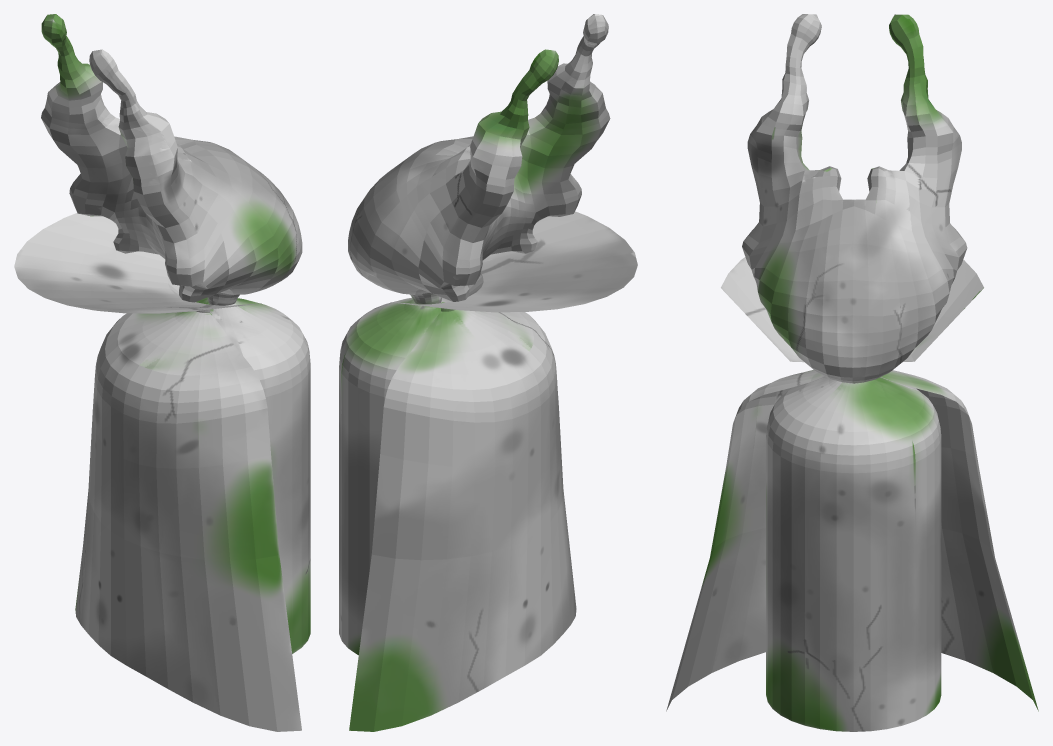
Rendered from Statue 1.fbx.
3 renders of one model, left to right at view 1: azimuth 30°, elevation 25°; view 2: azimuth 150°, elevation 25°; view 3: azimuth 270°, elevation 25°, orthographic. The views are drawn at different scales.
Parts seen in each view (by area): view 1: Low.001; view 2: Low.001; view 3: Low.001.
Boxes of the visible parts, left/top/right/bottom form: Low.001: left=14, top=14, right=310, bottom=731; Low.001: left=339, top=14, right=637, bottom=731; Low.001: left=666, top=14, right=1038, bottom=731.
Size of the model in its own units: 527 by 1223 by 648.
Materials: 1 (1 with a texture image).
